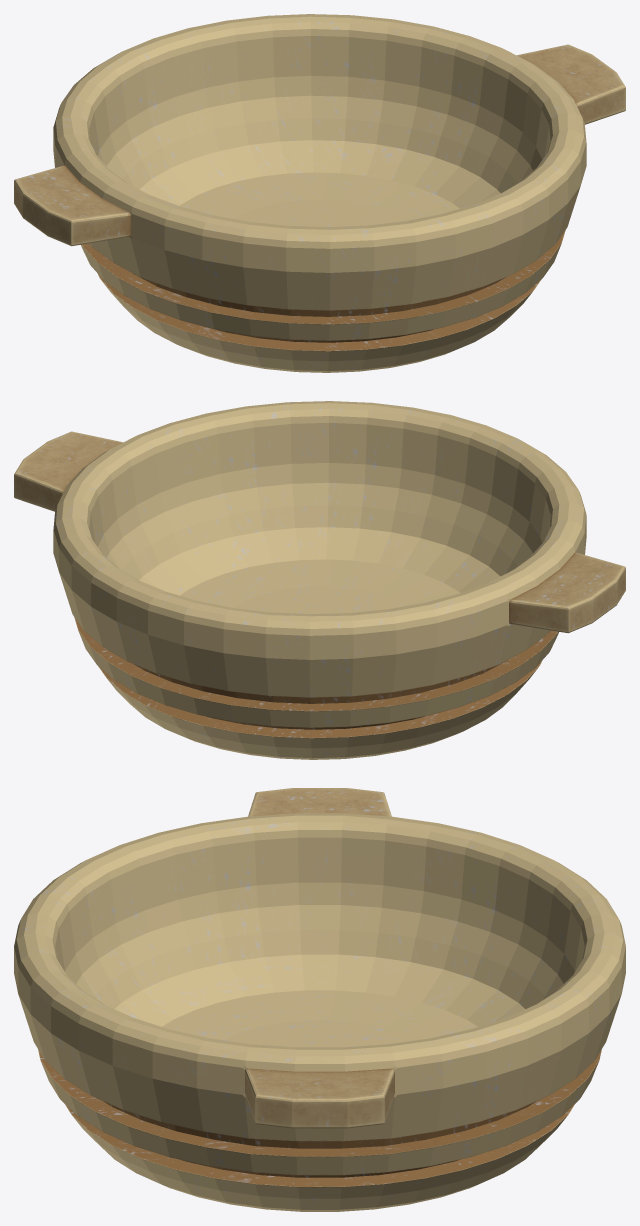
File: Bowl1.fbx
3 views of the same model, one above another, from view 1: azimuth 30°, elevation 25°; view 2: azimuth 150°, elevation 25°; view 3: azimuth 270°, elevation 25° (orthographic). The views are drawn at different scales.
Parts seen in each view (by area): view 1: Bowl; view 2: Bowl; view 3: Bowl.
Part boxes in pixels (x1,y1,x2,y2): Bowl: (14,14,625,372); Bowl: (14,401,625,759); Bowl: (14,788,625,1211).
Bounding box in the file's own units: 4.59 × 1.33 × 3.8.
1 material, 1 textured.
